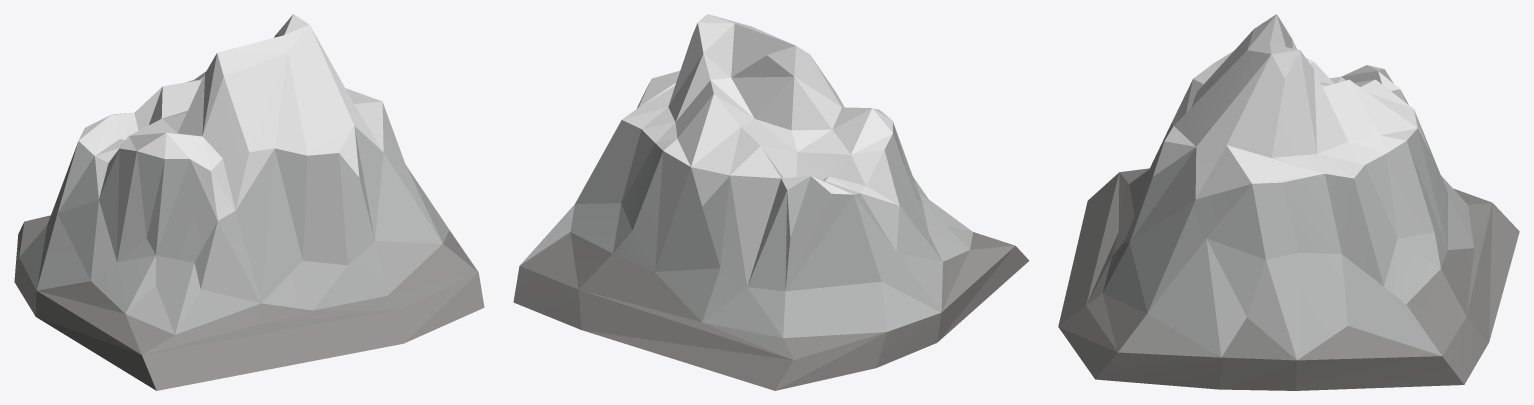
File: mountain_9.fbx
The picture shows the model from 3 angles, left to right: view 1: azimuth 30°, elevation 25°; view 2: azimuth 150°, elevation 25°; view 3: azimuth 270°, elevation 25°; orthographic projection. The views are drawn at different scales.
Parts seen in each view (by area): view 1: mountain_9; view 2: mountain_9; view 3: mountain_9.
Boxes of the visible parts, left/top/right/bottom form: mountain_9: left=14, top=14, right=484, bottom=390; mountain_9: left=513, top=14, right=1029, bottom=390; mountain_9: left=1058, top=14, right=1519, bottom=390.
Bounding box in the file's own units: 1366 × 874 × 1323.
